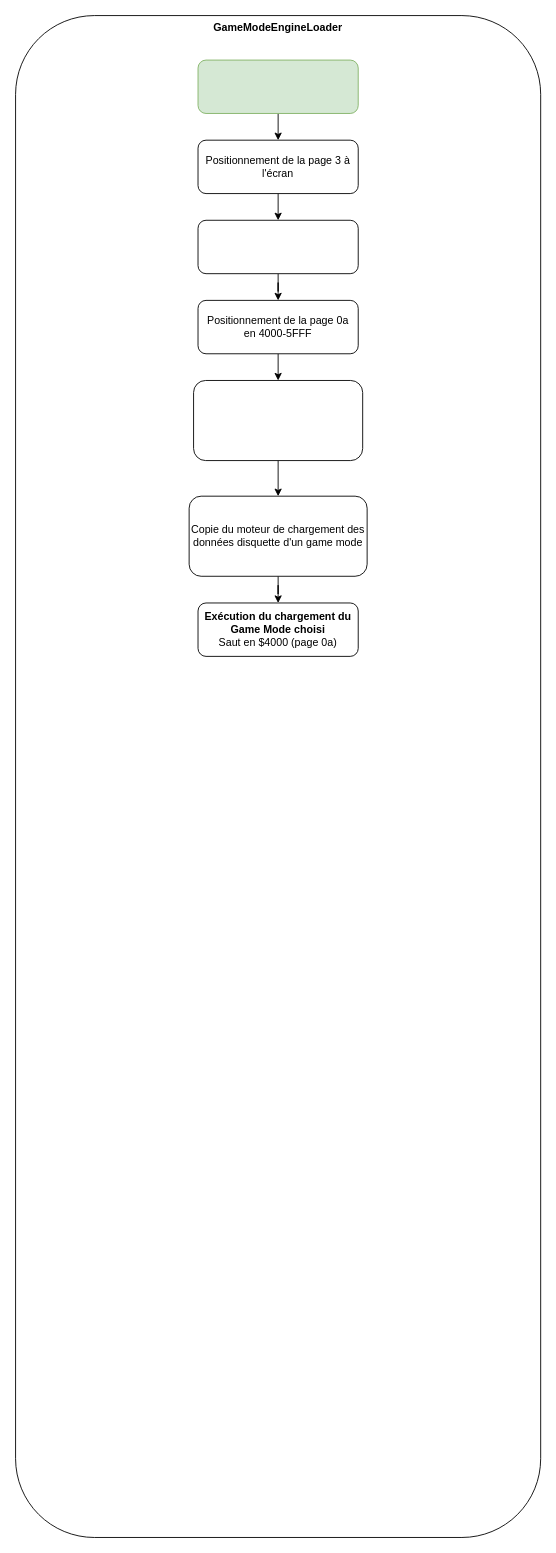
Some shapes in this 556 by 1553 pixel diagram are drawn without their labels. Each missing label, with the centre of its shape:
Attente VBL: pixel 277 86
Copie des données d'index disquette du game mode cible: pixel 278 420
Positionnement de la page 2 en 0000-3FFFF: pixel 277 246
